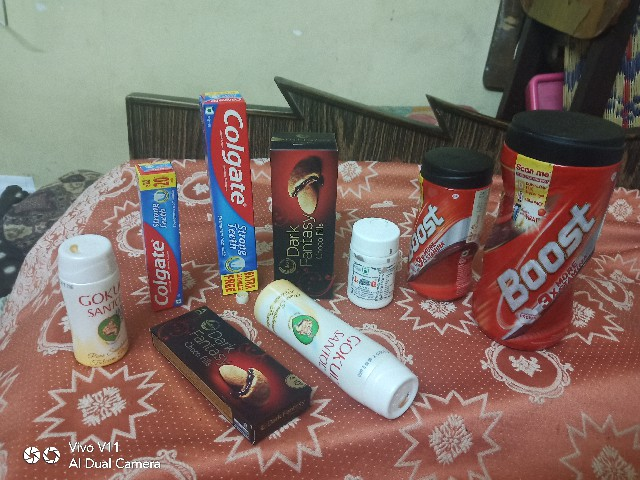boost big: (475, 104, 632, 348)
boost small: (401, 136, 491, 308)
colgatetoothpaste big: (196, 82, 258, 295)
colgatetoothpaste small: (125, 146, 187, 307)
darkfantasy big: (259, 102, 348, 305)
darkfantasy small: (143, 303, 311, 471)
gokulsantol big: (252, 279, 434, 415)
gokulsantol small: (46, 218, 127, 376)
lgasafoetidapowder small: (342, 214, 403, 313)
